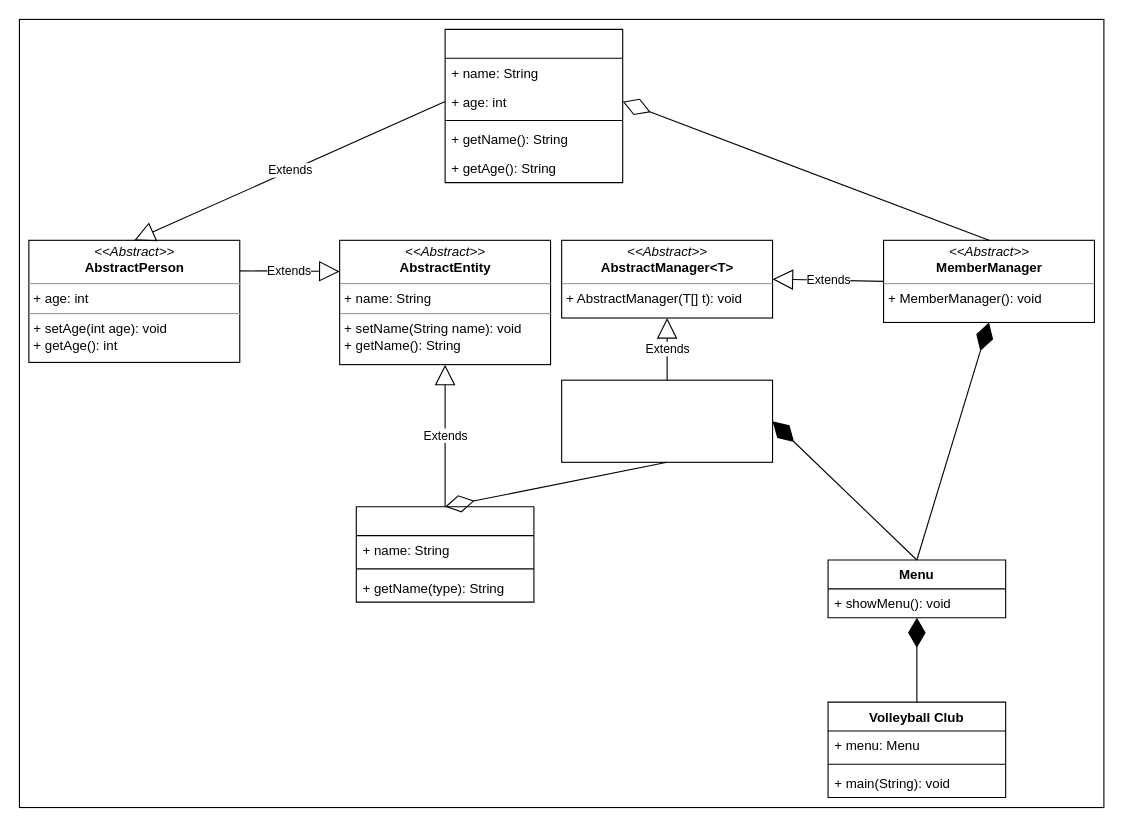
The diagram is 1123 pixels wide and 827 high, and some of its shapes have lost their labels. Here are the shapes that lost their labels. From the top down, the box of each, then its label:
(444, 28, 623, 183): Member
(561, 379, 773, 462): <<Abstract>> TeamManager + TeamManager(): void
(355, 506, 534, 602): Team
